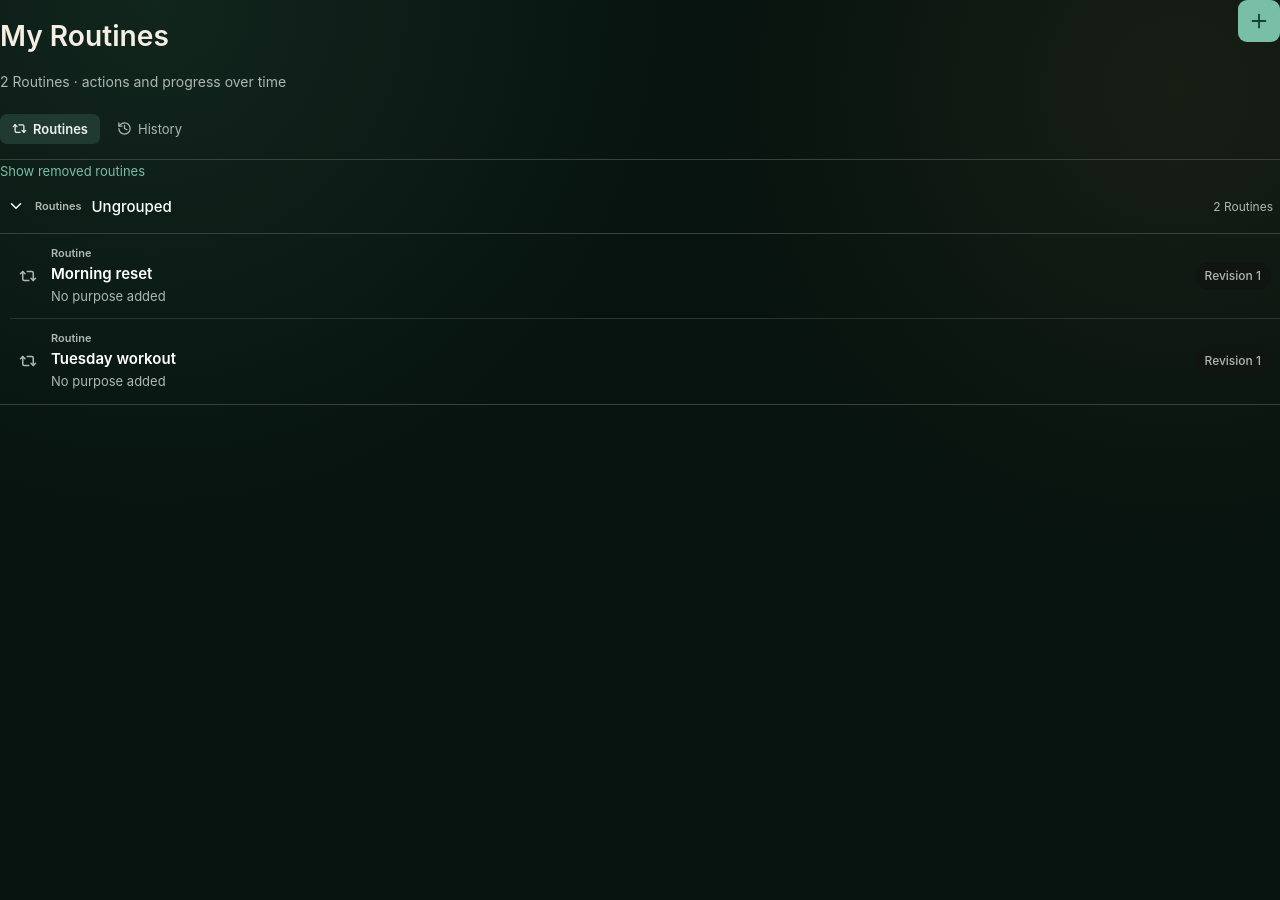
Routine selection, retained-history deletion, and scoped History › opens Edit from plus, selects multiple bubbles, and waits for one explicit confirmation
The image size is (1280, 900).
Click the button named "Create in My Routines". click: x=1259, y=21
box: left=1238, top=0, right=1279, bottom=42
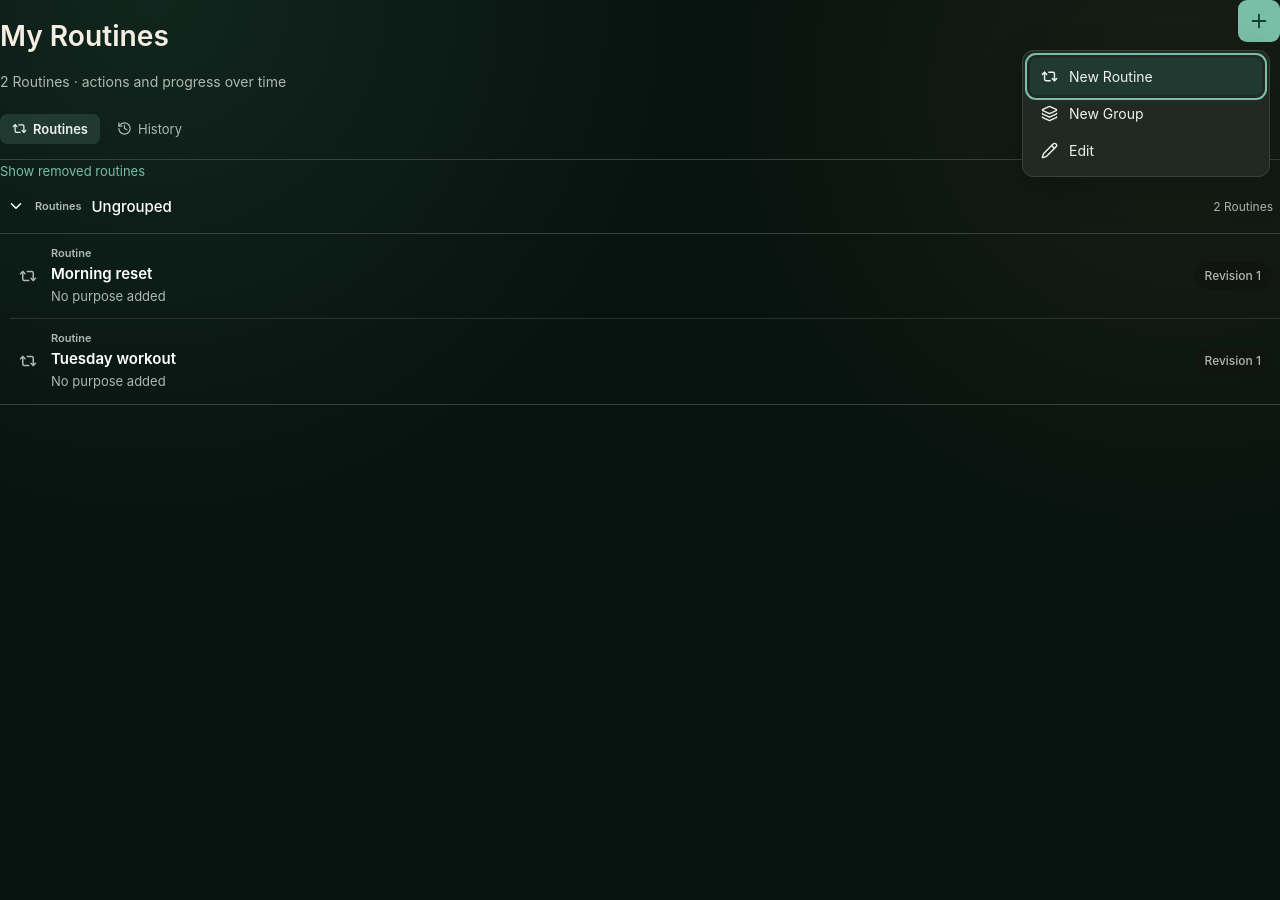
Click the menu item "Edit". click: x=1146, y=150
box: left=1030, top=132, right=1262, bottom=169
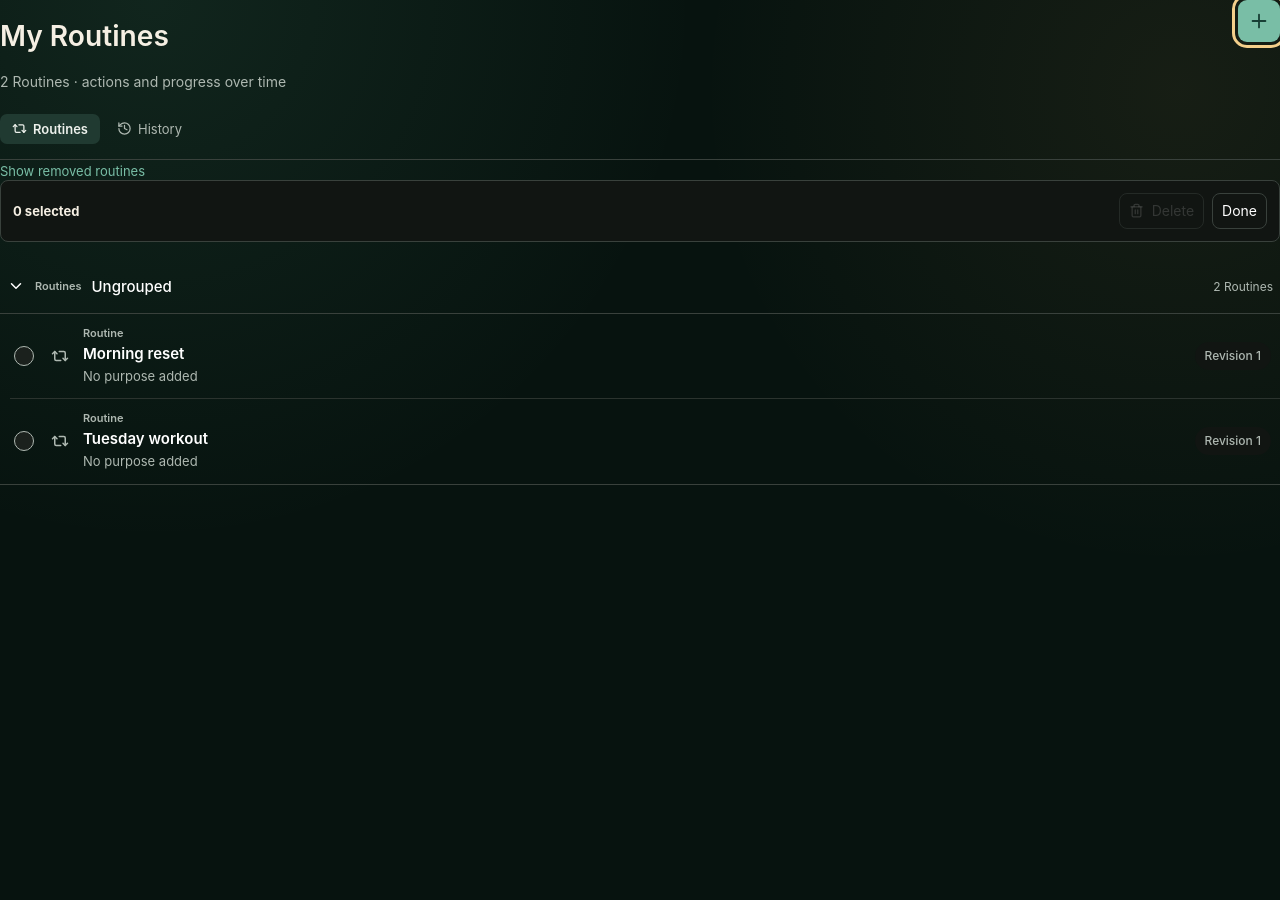
Click the checkbox named "Select Morning reset". click: x=24, y=356
box: left=14, top=346, right=34, bottom=366
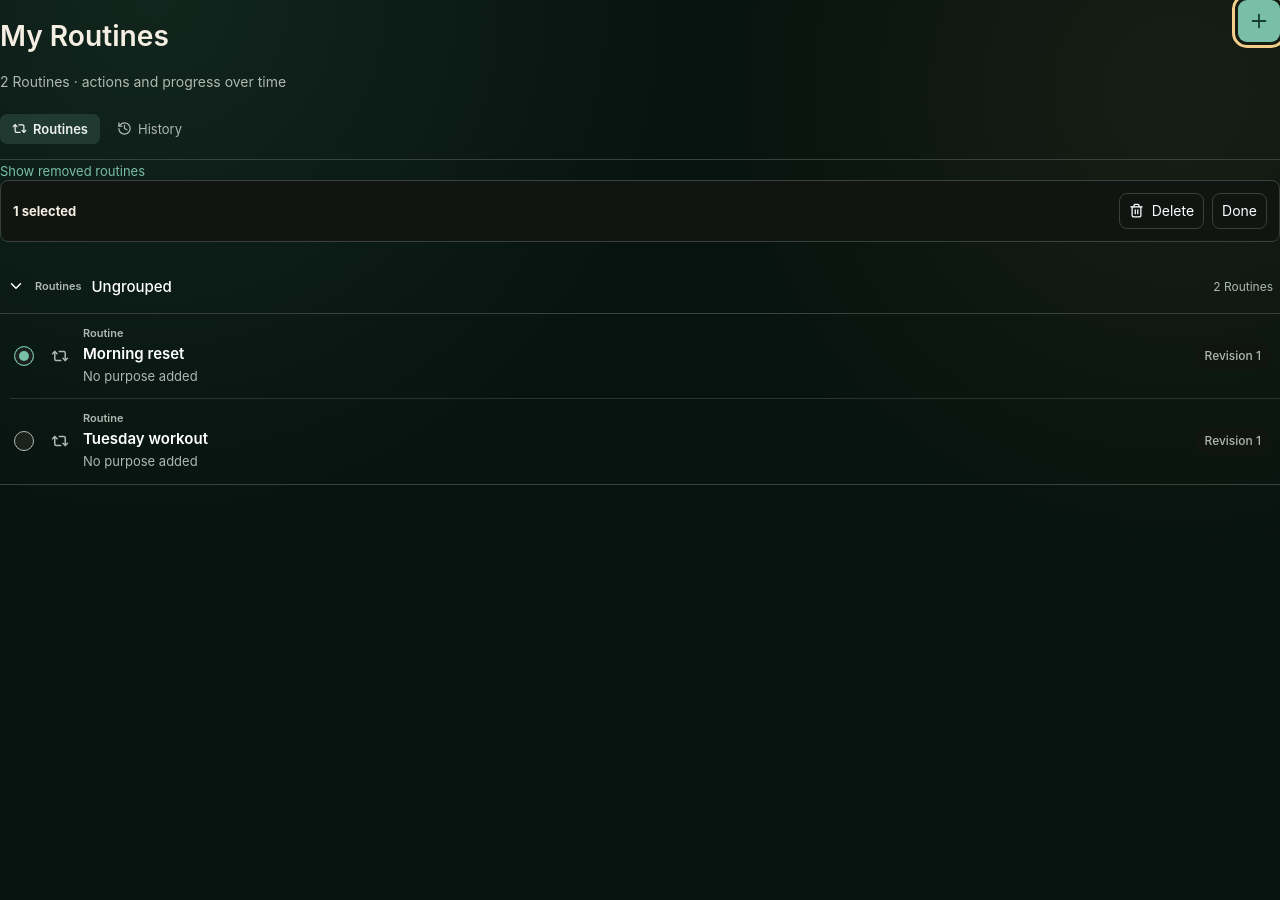
Click the checkbox named "Select Tuesday workout". click: x=24, y=441
box: left=14, top=431, right=34, bottom=451
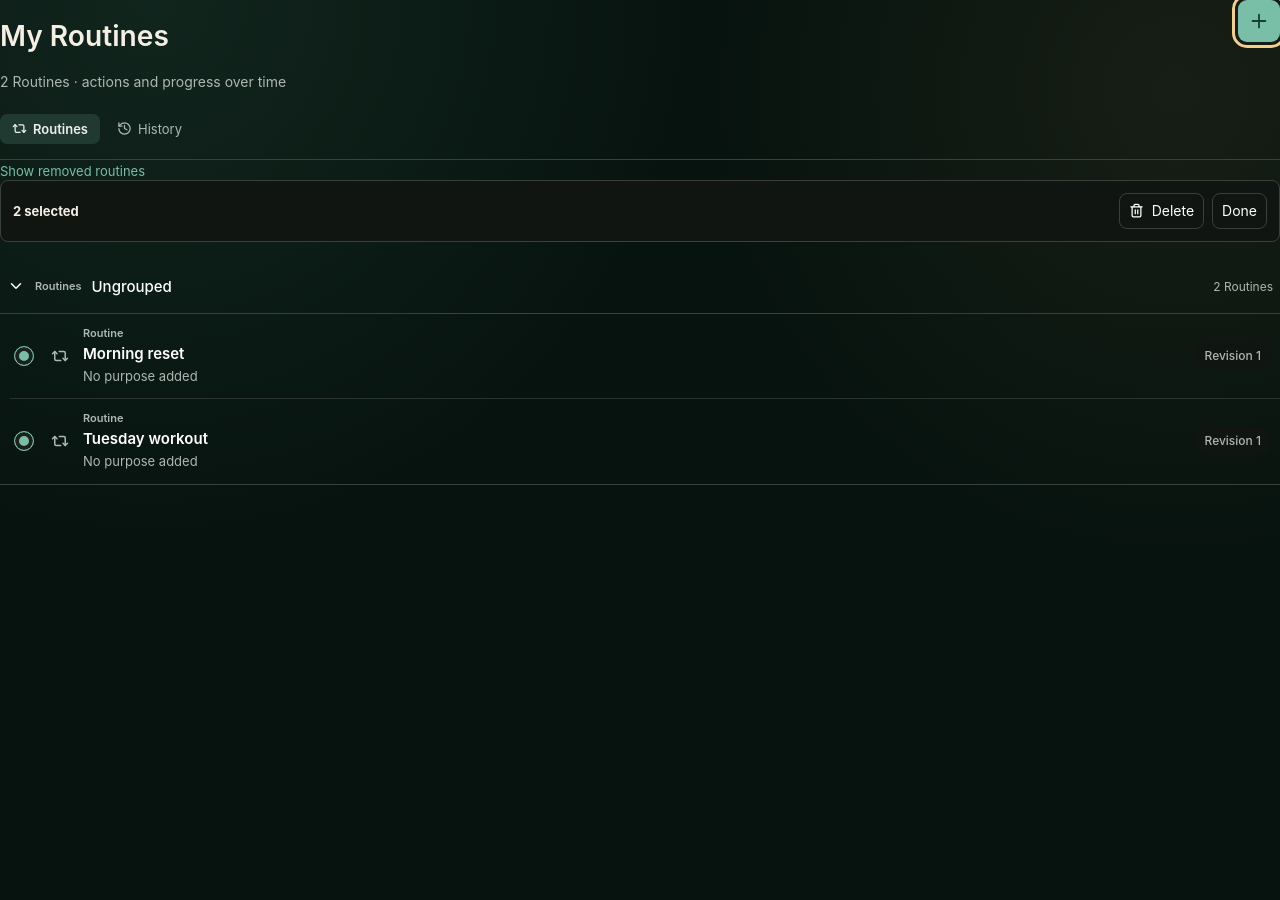
Click the button "Delete". click: x=1161, y=210
box: left=1119, top=192, right=1204, bottom=228
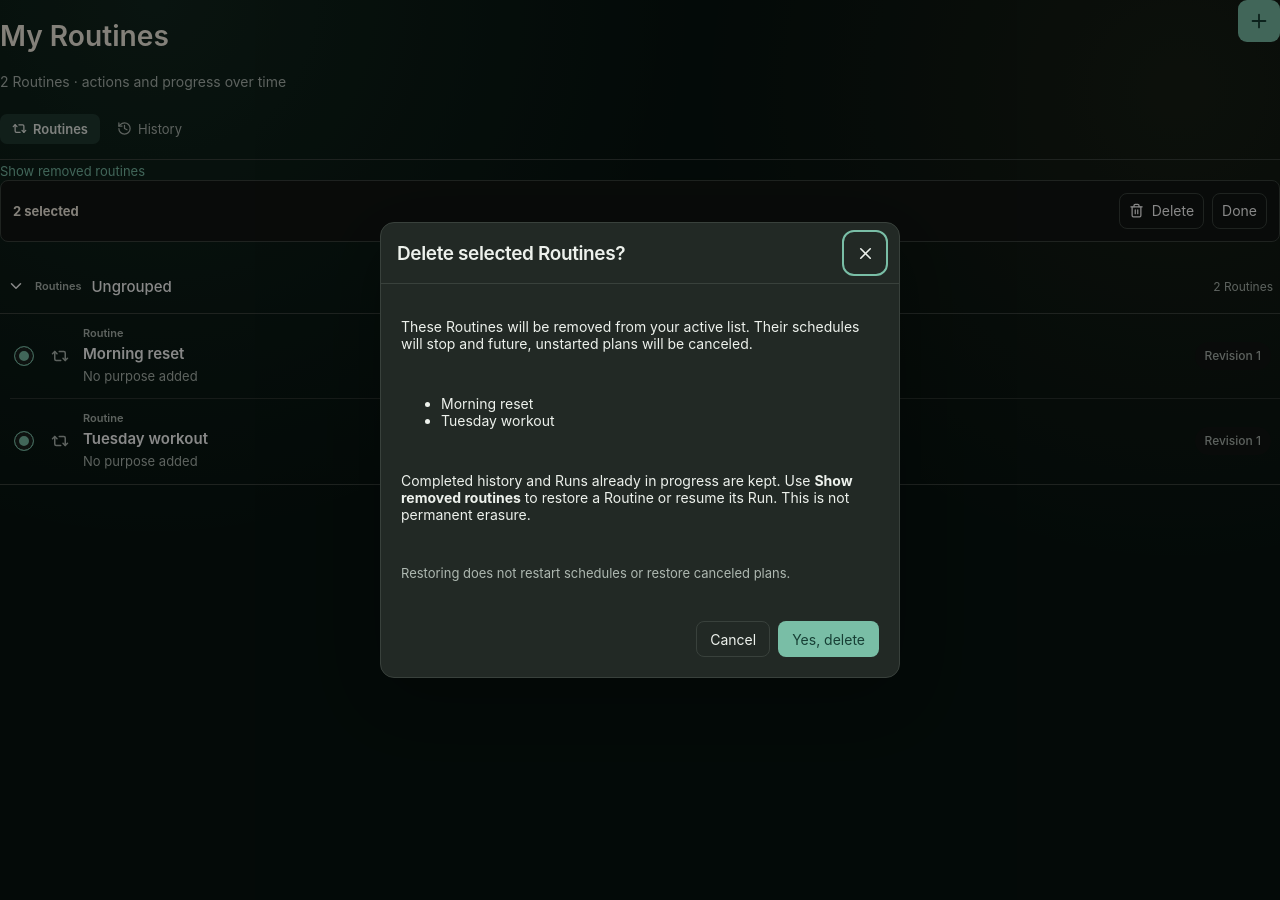
Now the dialog shows "Morning reset", box left=441, top=395, right=533, bottom=412
Now the dialog shows "Tuesday workout", box left=441, top=412, right=555, bottom=429
Now the dialog shows "future, unstarted plans will be canceled", box left=401, top=318, right=860, bottom=352
Click the button "Yes, delete". click: x=829, y=639
box: left=778, top=621, right=879, bottom=657
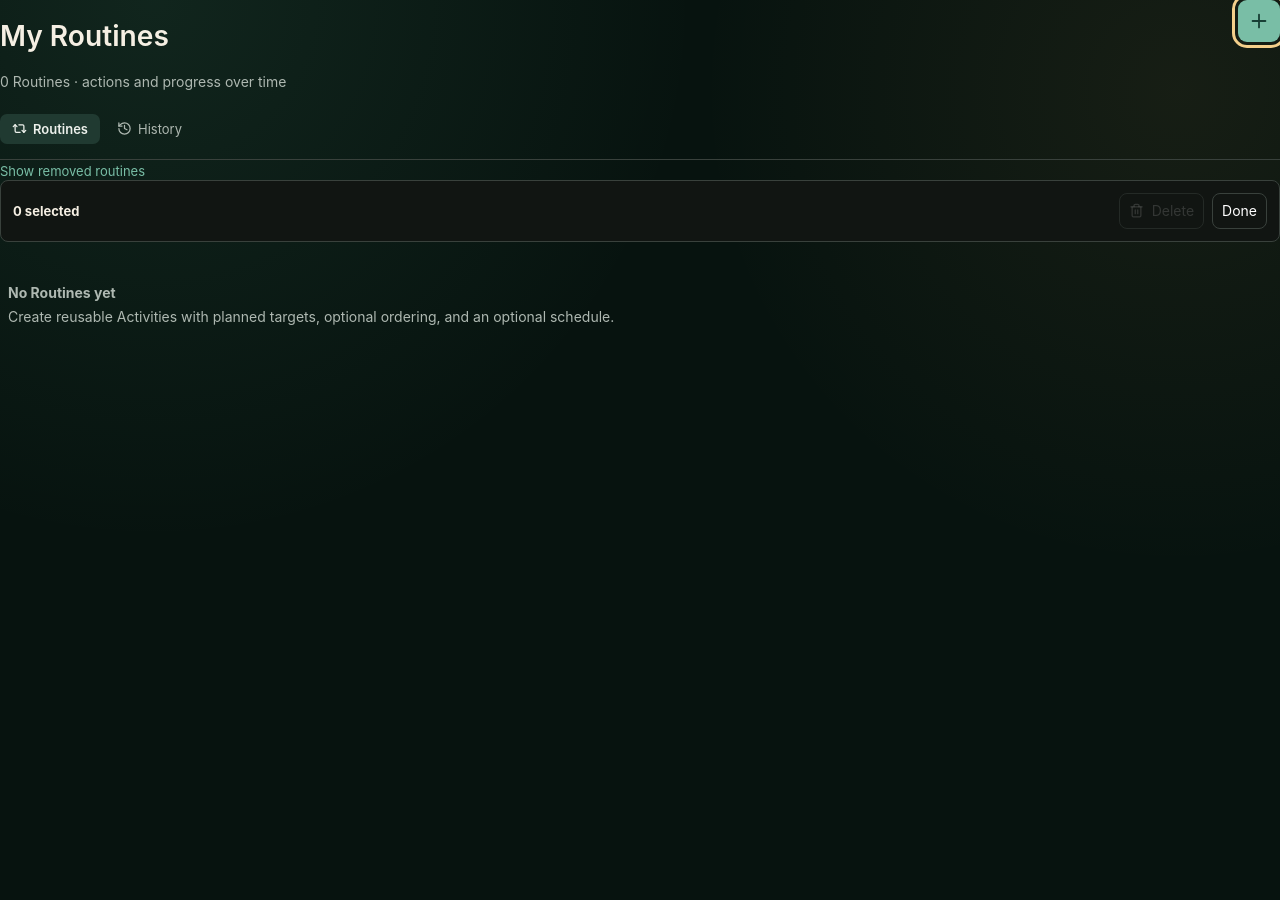
Now the dialog is gone
